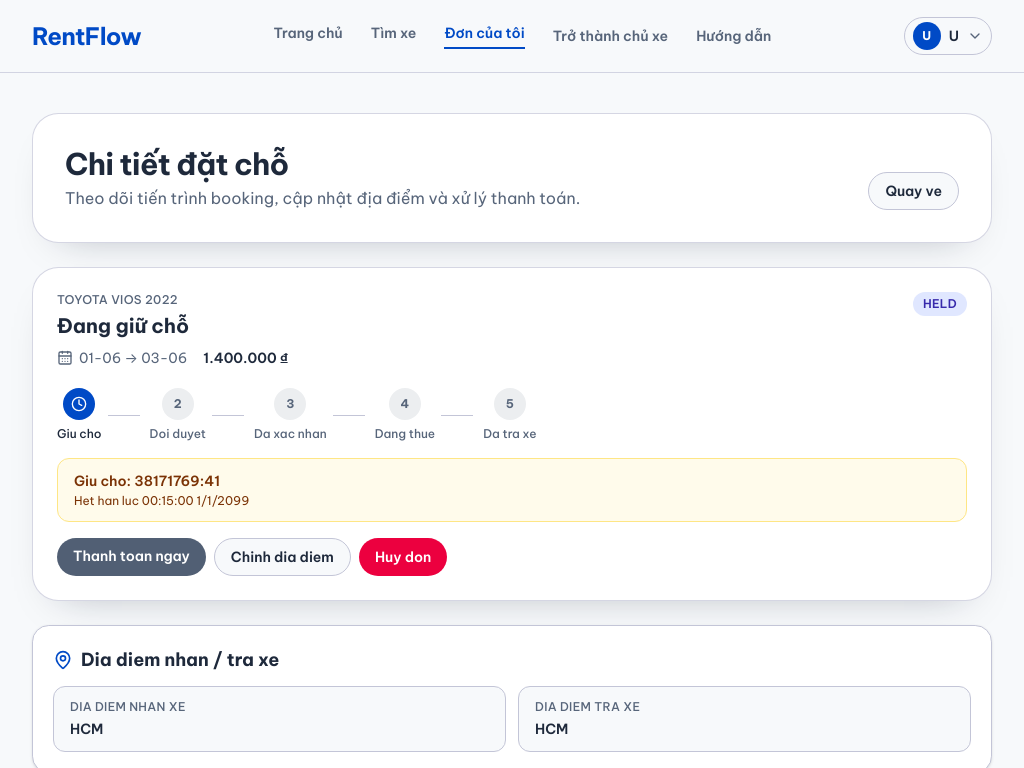
Test case: BookingDetailPageView › dialog cancel uses Vietnamese copy
The image size is (1024, 768).
Check: the text "Toyota Vios 2022" is shown, box left=57, top=292, right=178, bottom=307
Click the button "Huy don": x=403, y=557 left=359, top=538, right=447, bottom=576
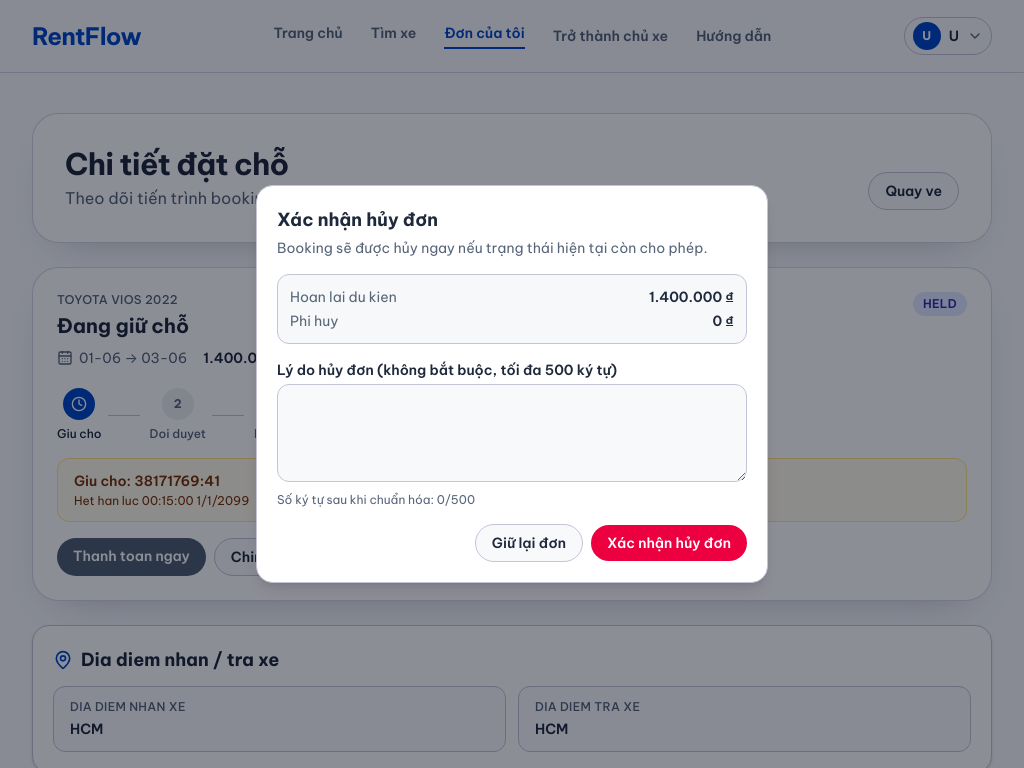
Check: the heading "Xác nhận hủy đơn" is shown, box left=277, top=208, right=438, bottom=231
Check: the text "Lý do hủy đơn (không bắt buộc, tối đa 500 ký tự)" is shown, box left=277, top=361, right=617, bottom=379
Check: the button "Giữ lại đơn" is shown, box left=475, top=524, right=583, bottom=562
